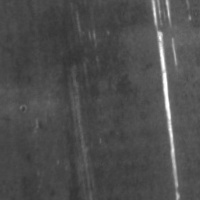scratches: (150, 0, 184, 197)
